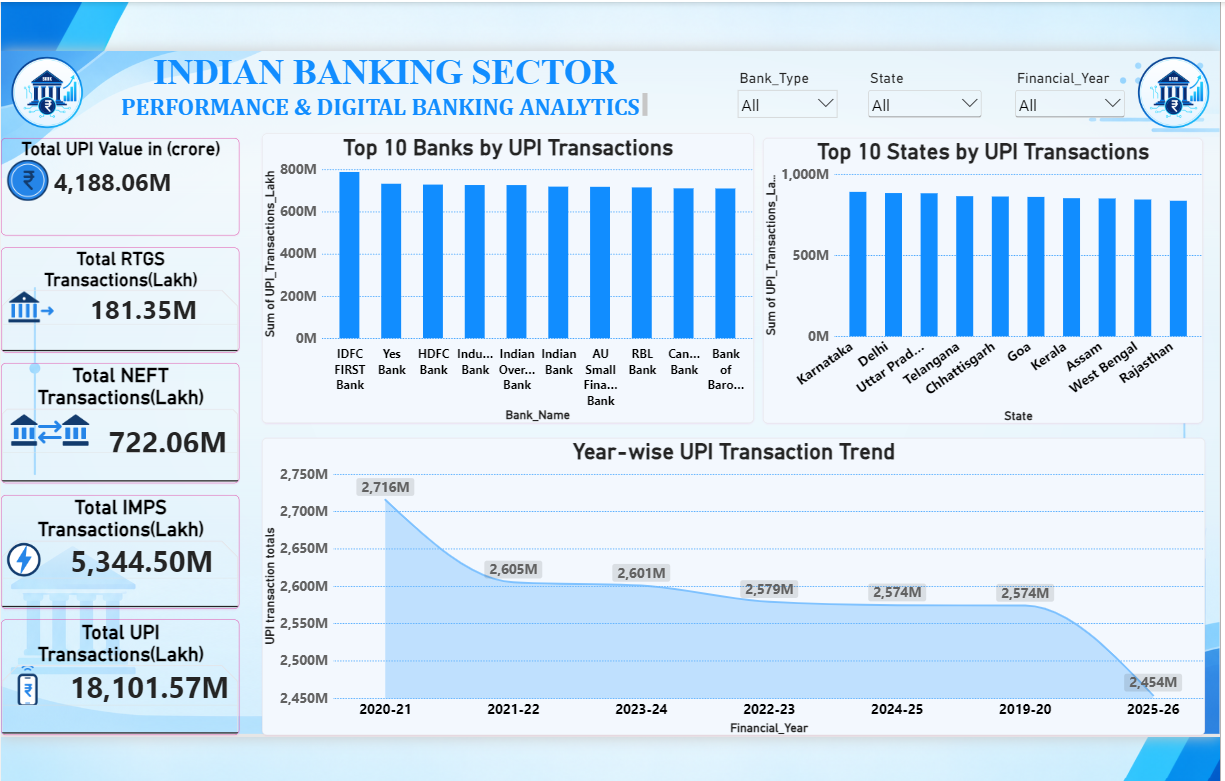

This screenshot's page, from the dashboard's own definition file:
{"tool":"powerbi","page":{"name":"Banking Overview","canvas":[1920,1080],"ordinal":0},"visuals":[{"type":"cardVisual","title":"     Total UPI Value in       (crore)","fields":{"Data":["Sum(dataset_2_3cleaned.UPI_Value_Cr)"]},"box":[0,137,375.7,153.6],"z":0},{"type":"cardVisual","title":"Total NEFT Transactions(Lakh)","fields":{"Data":["Sum(dataset_2_3cleaned.NEFT_Transactions_Lakh)"]},"box":[0,491.4,375.7,189],"z":1000},{"type":"cardVisual","title":"Total IMPS Transactions(Lakh)","fields":{"Data":["Sum(dataset_2_3cleaned.IMPS_Transactions_Lakh)"]},"box":[0,699.3,375.7,179.6],"z":2000},{"type":"cardVisual","title":"Total RTGS Transactions(Lakh)","fields":{"Data":["Sum(dataset_2_3cleaned.RTGS_Transactions_Lakh)"]},"box":[0,309.5,375.7,165.4],"z":3000},{"type":"cardVisual","title":"Total UPI Transactions(Lakh)","fields":{"Data":["Sum(dataset_2_3cleaned.UPI_Transactions_Lakh)"]},"box":[0,895.4,375.7,181.9],"z":4000},{"type":"lineChart","title":"Year-wise UPI Transaction Trend","fields":{"Category":["dataset_2_3cleaned.Financial_Year"],"Y":["Sum(dataset_2_3cleaned.UPI_Transactions_Lakh)"]},"box":[410.1,610.6,1485.6,467.8],"z":5000},{"type":"clusteredColumnChart","title":"Top 10 Banks by UPI Transactions","fields":{"Category":["dataset_2_3cleaned.Bank_Name"],"Y":["Sum(dataset_2_3cleaned.UPI_Transactions_Lakh)"]},"box":[410.1,130.6,774.7,455.7],"z":6000},{"type":"columnChart","title":"Top 10 States by UPI Transactions","fields":{"Category":["dataset_2_3cleaned.State"],"Y":["Sum(dataset_2_3cleaned.UPI_Transactions_Lakh)"]},"box":[1200,136.7,692.7,449.6],"z":7000},{"type":"slicer","fields":{"Values":["dataset_2_3cleaned.Financial_Year"]},"box":[1591.9,27.3,182.3,79],"z":8000},{"type":"slicer","fields":{"Values":["dataset_2_3cleaned.Bank_Type"]},"box":[1154.4,27.3,167.1,79],"z":9000},{"type":"slicer","fields":{"Values":["dataset_2_3cleaned.State"]},"box":[1361,27.3,188.4,79],"z":10000},{"type":"image","box":[0,0,145.8,130.6],"z":11000},{"type":"image","box":[1774.2,0,145.8,130.6],"z":12000},{"type":"textbox","box":[145.8,0,917.5,66.8],"z":13000},{"type":"textbox","box":[188.4,66.8,829.4,39.5],"z":14000}]}

Visuals, with their boxes on the page's 1920x1080 design canvas (x1, y1, x2, y2). These are canvas units, not pixel positions in the 1225x781 screenshot, which may show the page scaled, cropped or inside an application window:
"     Total UPI Value in       (crore)" cardVisual: (x1=0, y1=137, x2=376, y2=291)
"Total NEFT Transactions(Lakh)" cardVisual: (x1=0, y1=491, x2=376, y2=680)
"Total IMPS Transactions(Lakh)" cardVisual: (x1=0, y1=699, x2=376, y2=879)
"Total RTGS Transactions(Lakh)" cardVisual: (x1=0, y1=310, x2=376, y2=475)
"Total UPI Transactions(Lakh)" cardVisual: (x1=0, y1=895, x2=376, y2=1077)
"Year-wise UPI Transaction Trend" lineChart: (x1=410, y1=611, x2=1896, y2=1078)
"Top 10 Banks by UPI Transactions" clusteredColumnChart: (x1=410, y1=131, x2=1185, y2=586)
"Top 10 States by UPI Transactions" columnChart: (x1=1200, y1=137, x2=1893, y2=586)
slicer - dataset_2_3cleaned.Financial_Year: (x1=1592, y1=27, x2=1774, y2=106)
slicer - dataset_2_3cleaned.Bank_Type: (x1=1154, y1=27, x2=1322, y2=106)
slicer - dataset_2_3cleaned.State: (x1=1361, y1=27, x2=1549, y2=106)
image: (x1=0, y1=0, x2=146, y2=131)
image: (x1=1774, y1=0, x2=1920, y2=131)
textbox: (x1=146, y1=0, x2=1063, y2=67)
textbox: (x1=188, y1=67, x2=1018, y2=106)
